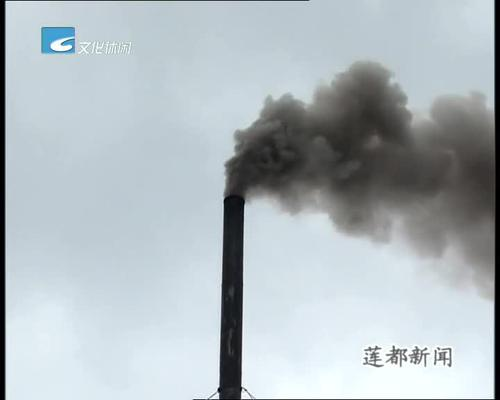smoke: (226, 62, 491, 204)
